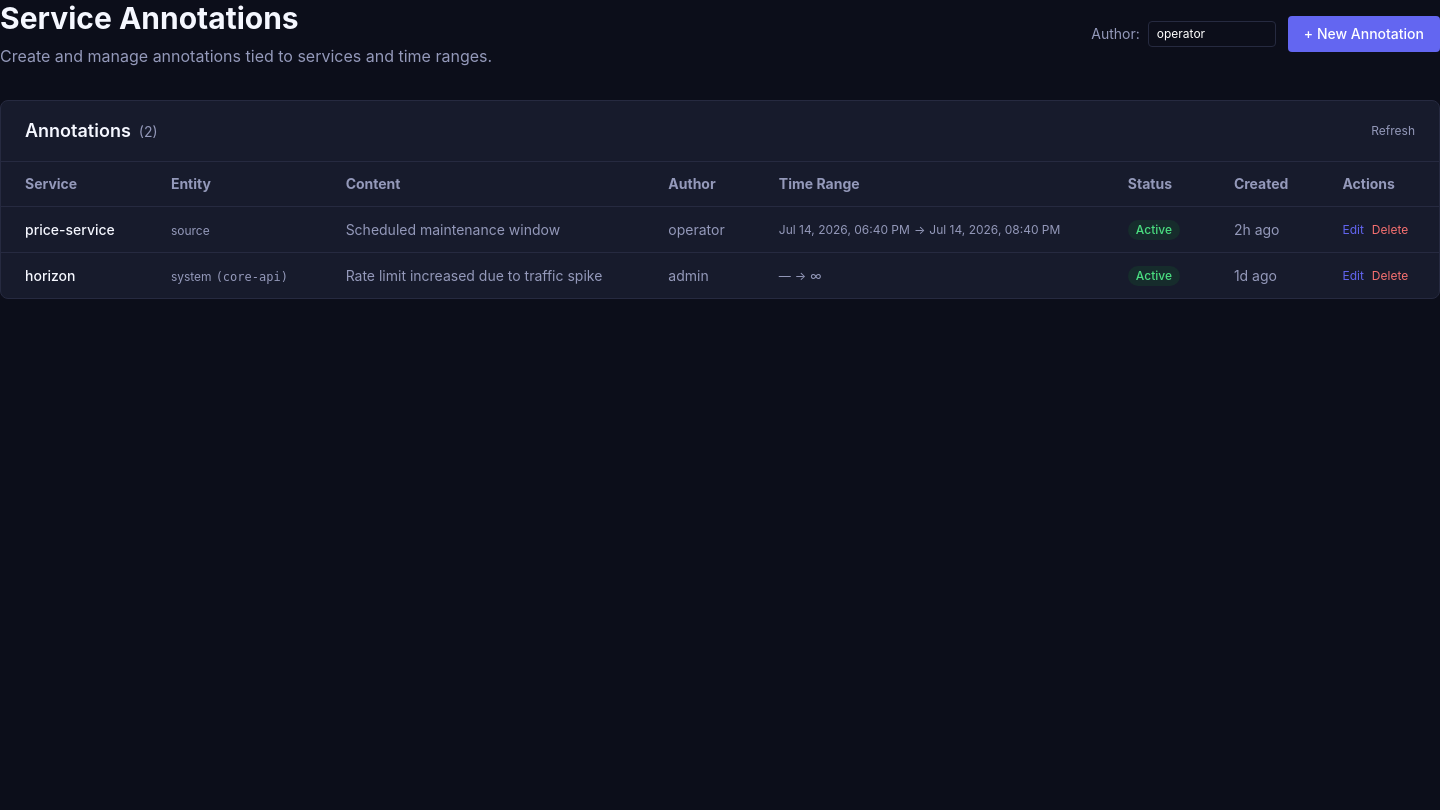
Test case: ServiceAnnotations › opens the creation form when + New Annotation is clicked
Step 1. Click the button "+ New Annotation" → {"x": 1364, "y": 34}, box [1288,16,1439,52]
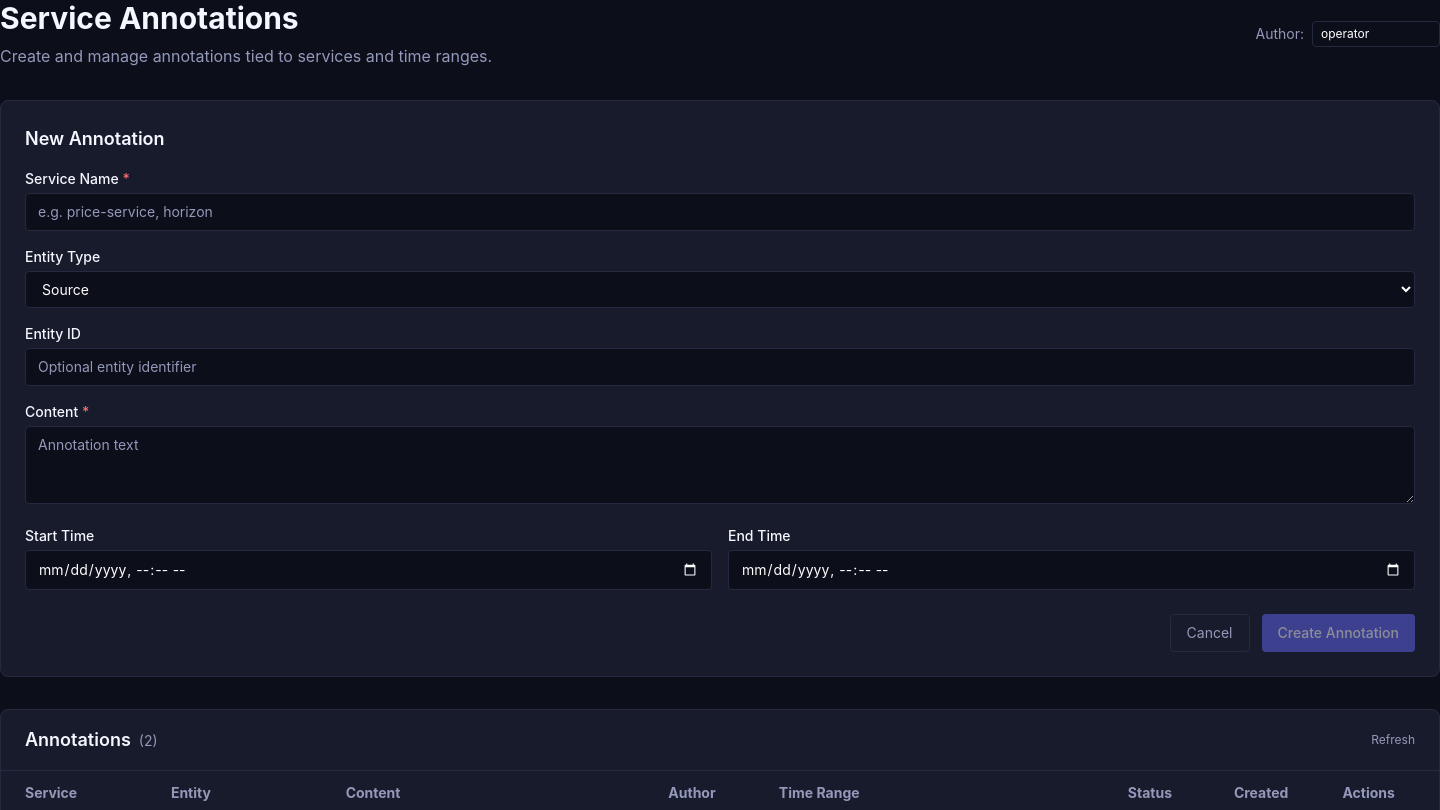
Expected: the field labelled "Service Name *" is shown, [25,193,1415,231]
Expected: the dropdown labelled "Entity Type" is shown, [25,271,1415,308]
Expected: the text box labelled "Content *" is shown, [25,426,1415,504]
